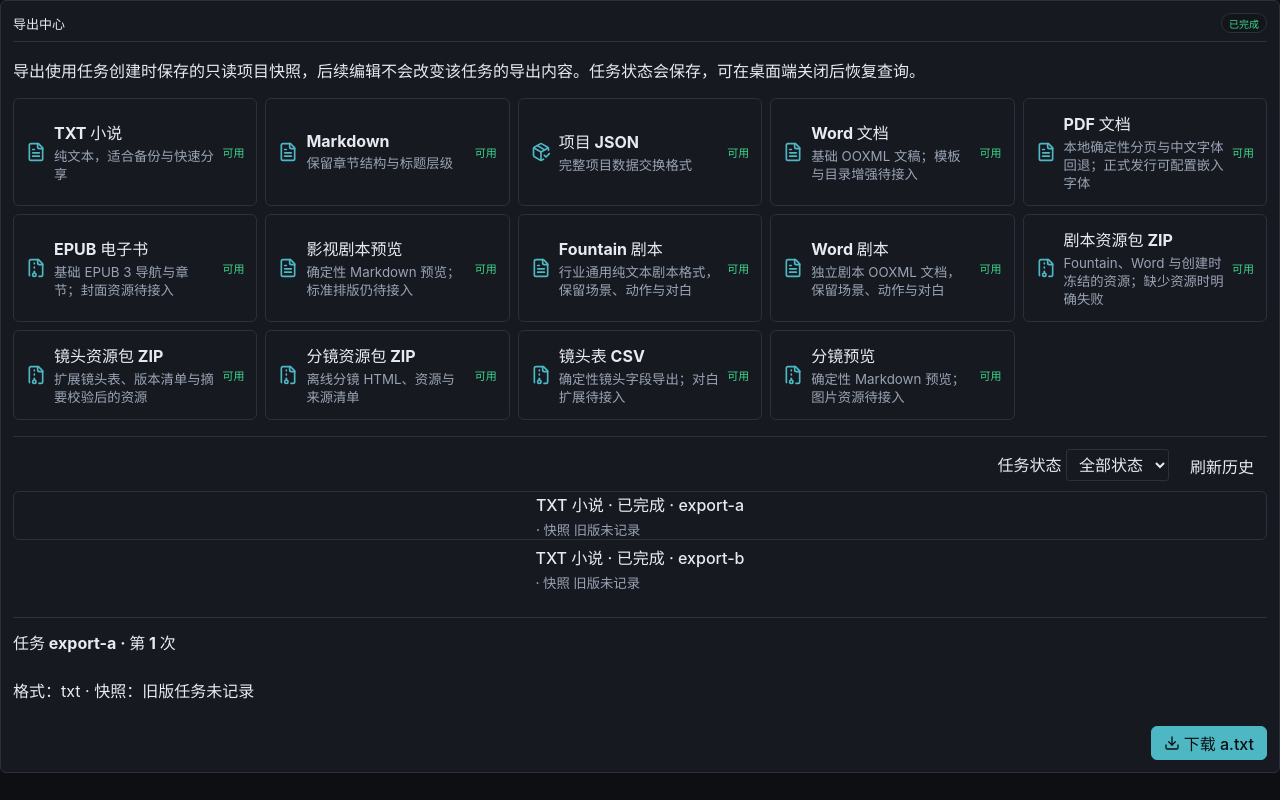
Test case: Export download feedback › keeps URL-creation failures recoverable without requesting a browser download
Click the button "下载 a.txt".
click(1209, 743)  # box left=1151, top=726, right=1267, bottom=760
(page scrolled)
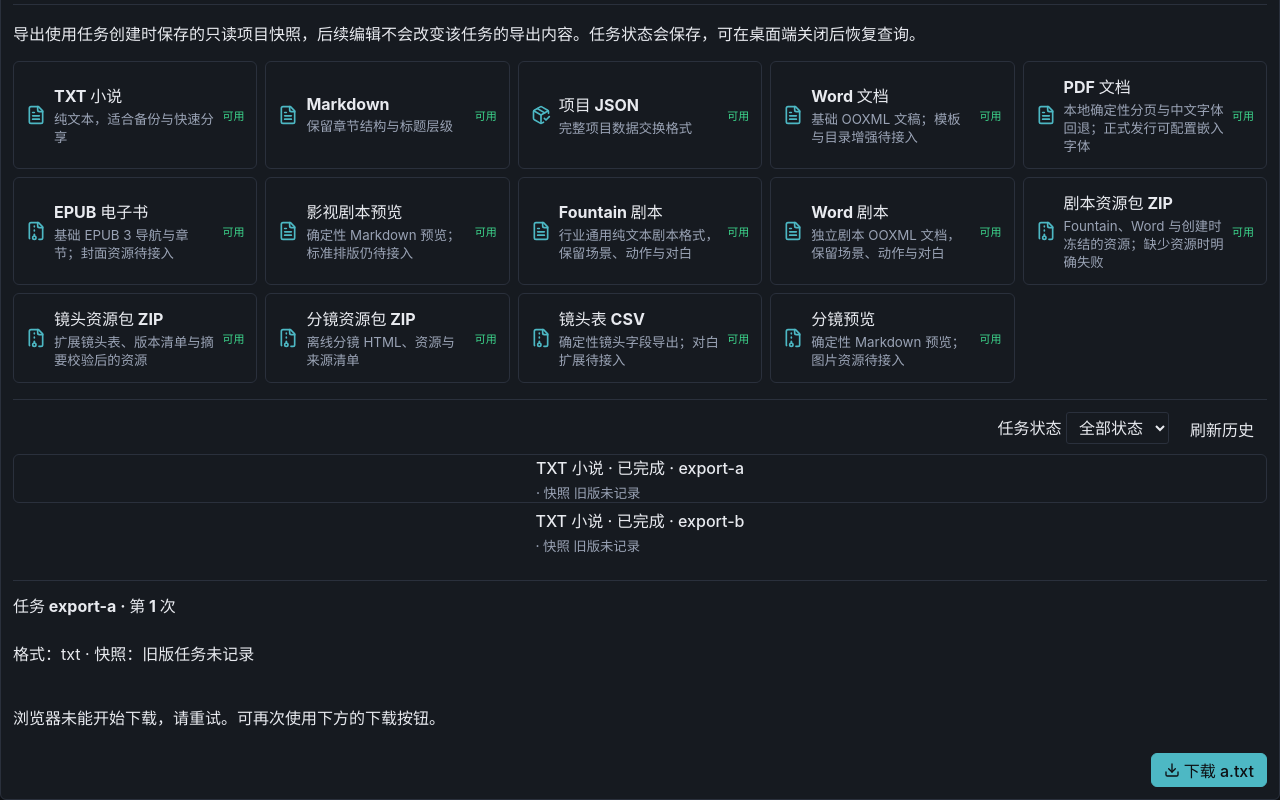
Expected: the button "下载 a.txt" is enabled, left=1151, top=753, right=1267, bottom=787
Expected: the text "浏览器未能开始下载，请重试。可再次使用下方的下载按钮。" is shown, left=13, top=708, right=445, bottom=728
